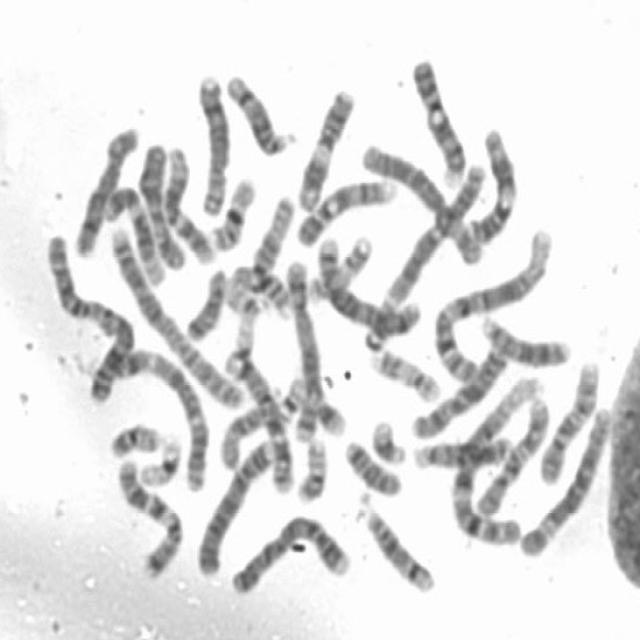A1: (428, 219, 558, 384), (444, 370, 552, 546)
A2: (102, 219, 250, 410), (38, 223, 139, 405)
A3: (361, 153, 492, 351), (108, 337, 215, 493)
B4: (191, 428, 281, 578), (225, 505, 354, 597)
B5: (311, 227, 423, 337), (281, 251, 328, 443)
C10: (468, 384, 552, 519), (534, 349, 605, 486)
C11: (293, 78, 360, 214), (463, 117, 521, 246)
C12: (156, 136, 219, 267), (99, 175, 169, 286)
C6: (354, 132, 490, 269), (515, 397, 616, 560)
C7: (218, 341, 296, 497), (111, 449, 189, 581)
C8: (68, 115, 144, 258), (190, 64, 234, 218)
C9: (406, 47, 470, 187), (290, 168, 400, 248)
D13: (474, 306, 576, 368), (407, 425, 517, 472)
D14: (353, 489, 441, 596), (220, 63, 301, 157)
D15: (214, 372, 298, 478), (245, 186, 298, 281)
E16: (204, 166, 260, 252), (225, 257, 294, 318)
E17: (303, 226, 377, 304), (365, 339, 445, 403)
E18: (339, 431, 407, 497), (180, 259, 232, 344)
F19: (134, 425, 187, 489), (220, 308, 261, 382)
F20: (292, 428, 332, 505), (104, 413, 166, 460)
G21: (366, 410, 410, 467), (305, 388, 350, 438)
G22: (221, 270, 266, 318), (274, 367, 309, 424)
X: (407, 337, 512, 439), (132, 134, 191, 272)
